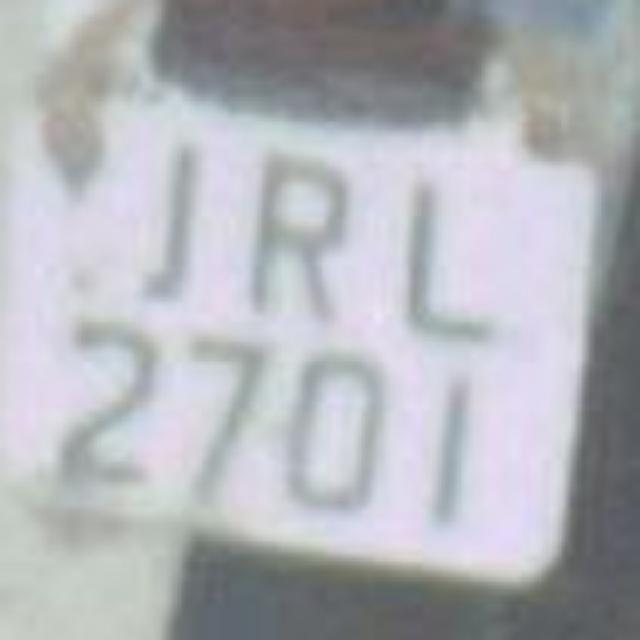0: (271, 331, 404, 524)
1: (412, 356, 488, 524)
2: (32, 300, 188, 525)
7: (160, 320, 285, 515)
J: (92, 124, 212, 324), (380, 168, 508, 352)
R: (228, 140, 372, 332)
